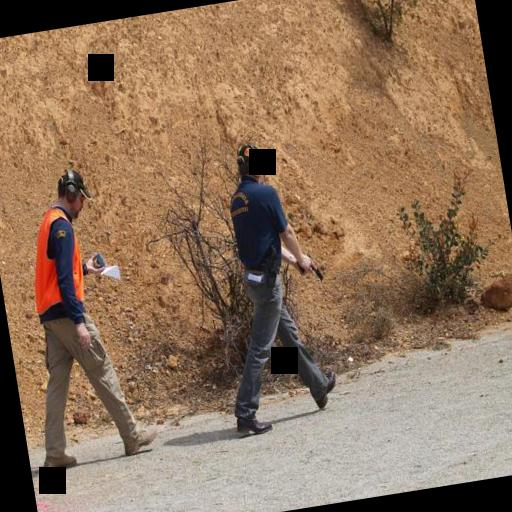Handgun: (293, 245, 325, 287)
